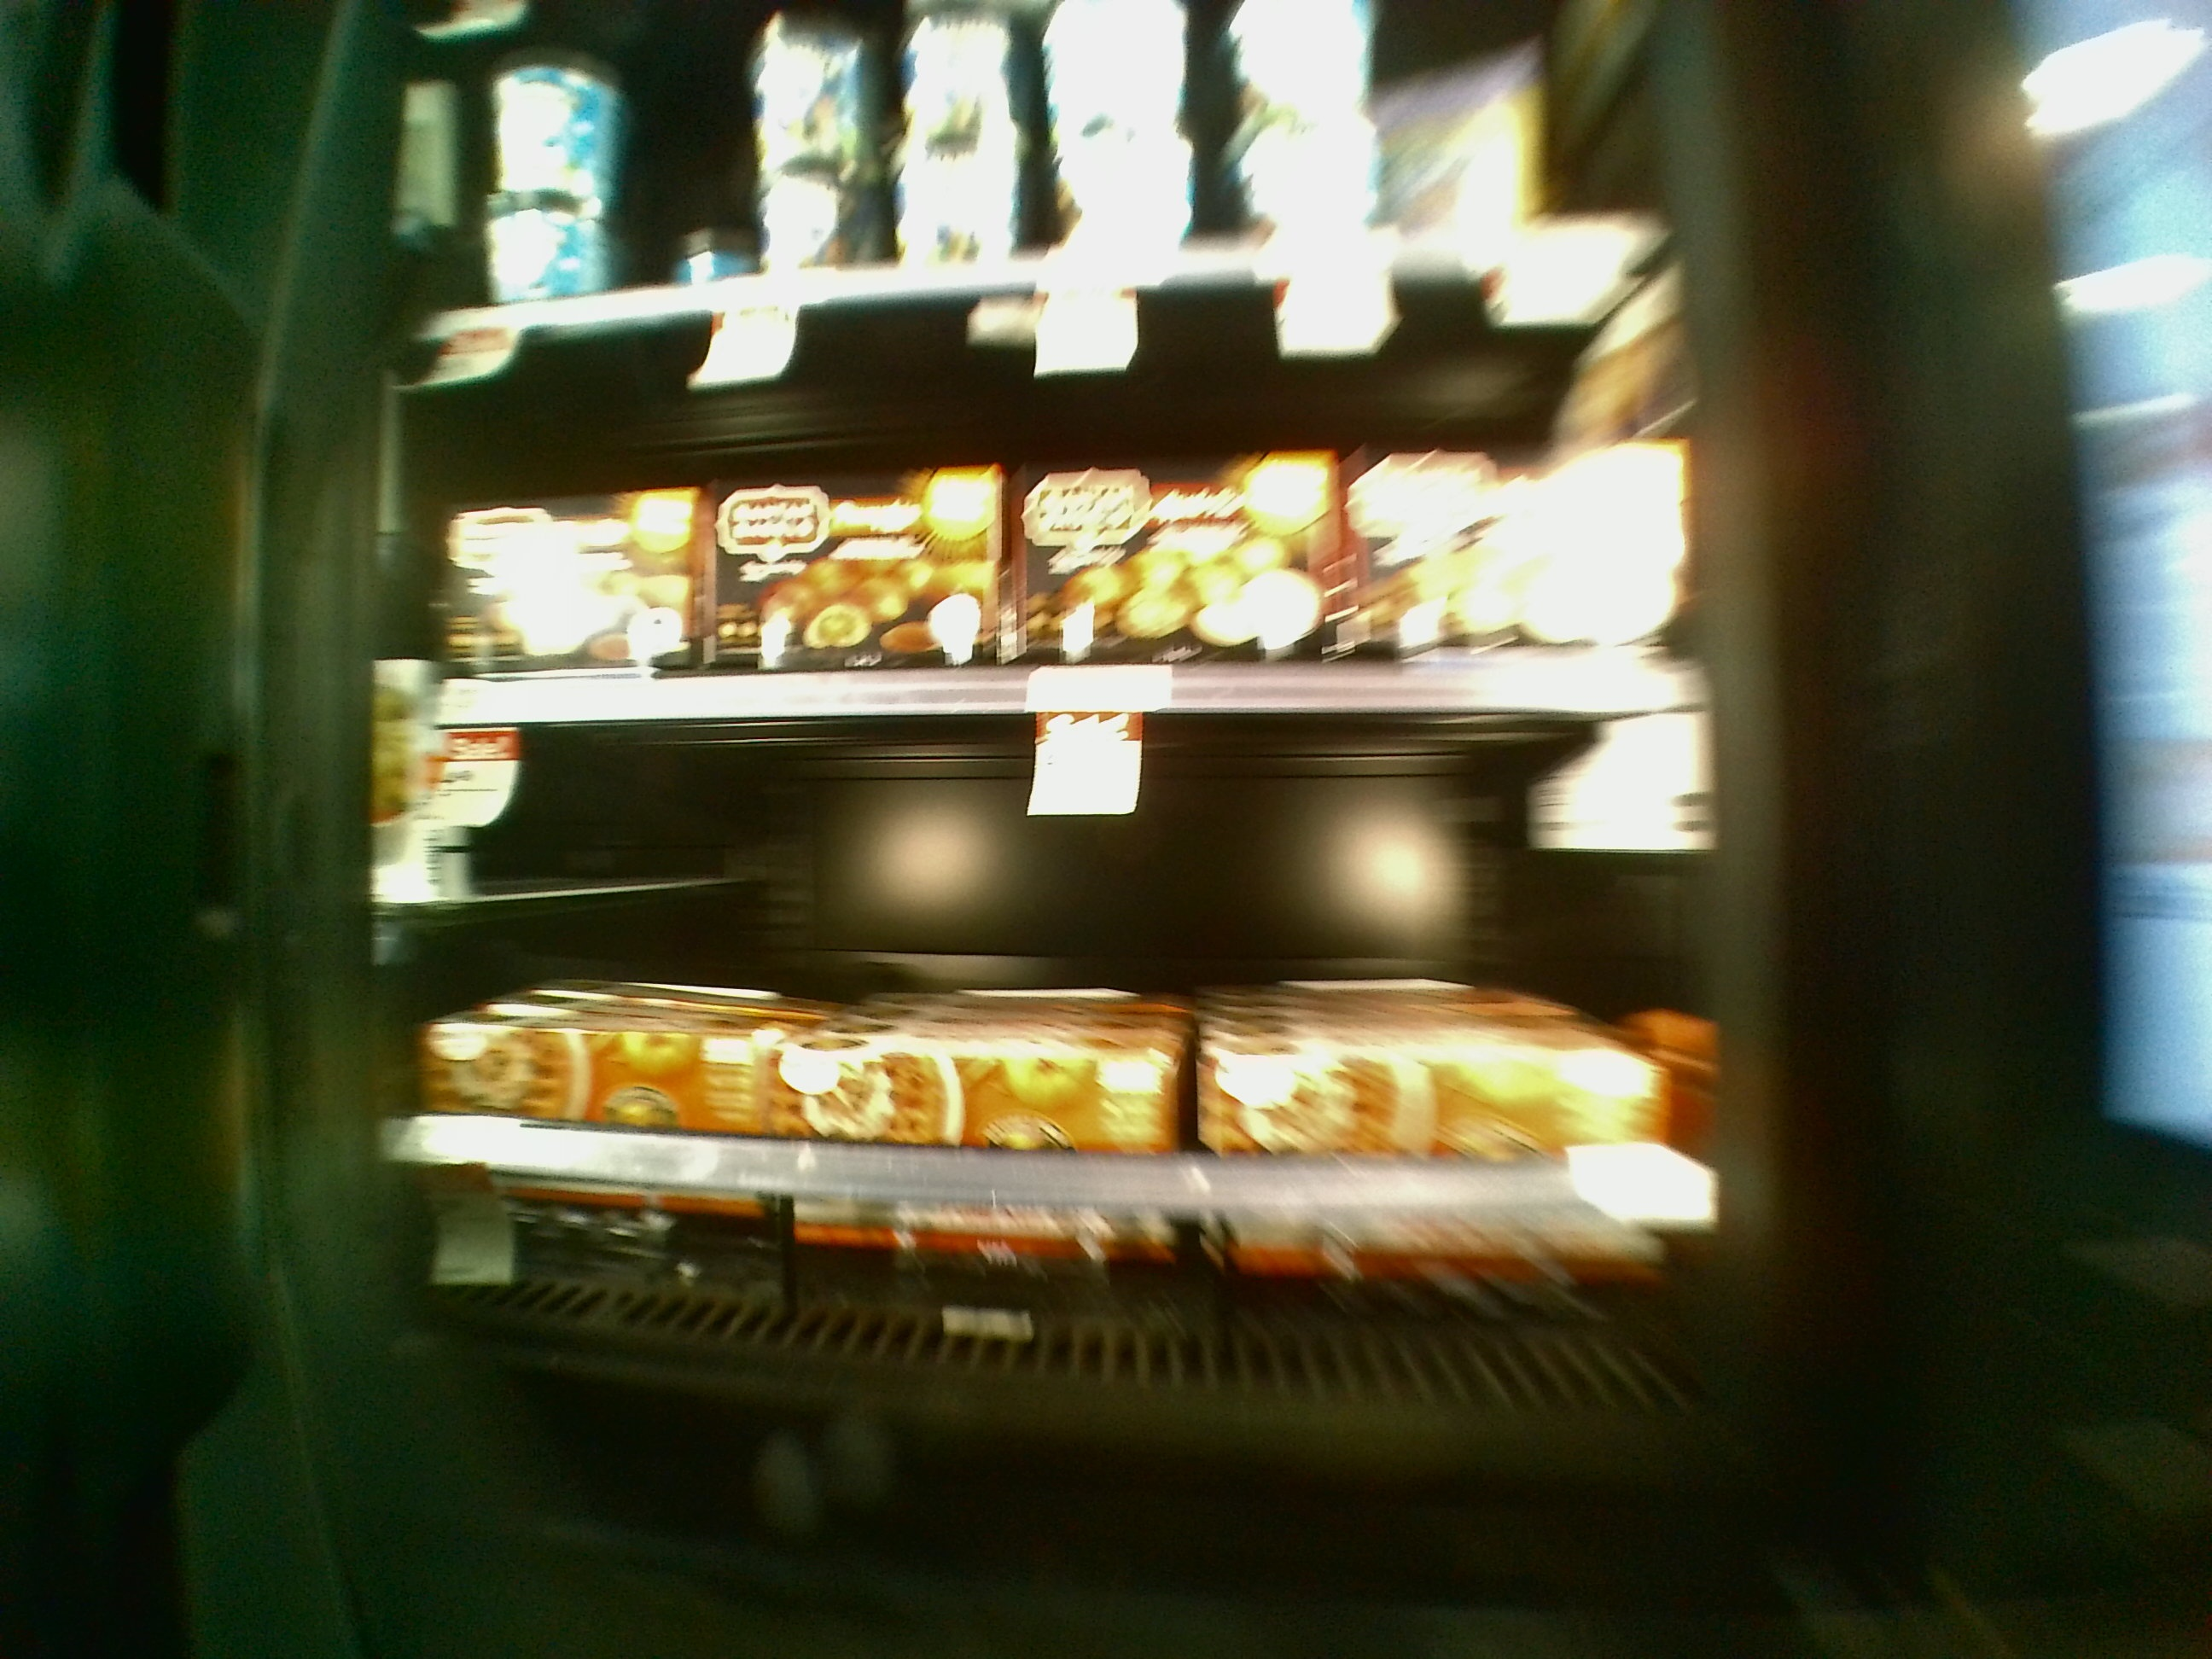shelf: (347, 678, 1735, 1459), (361, 314, 1719, 718)
